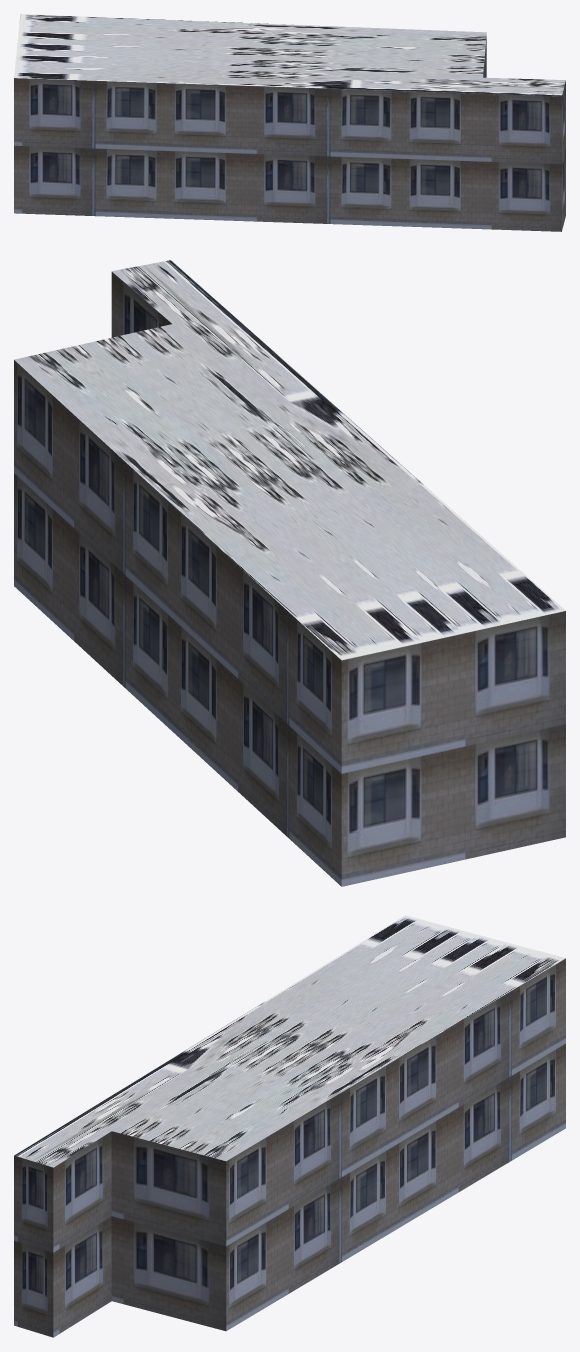
The model's file is ResTex__4845.fbx.
3 renders of one model, top to bottom at view 1: azimuth 30°, elevation 25°; view 2: azimuth 150°, elevation 25°; view 3: azimuth 270°, elevation 25°, orthographic. The views are drawn at different scales.
Visible parts, largest first — view 1: CityEngineMaterial_3_m, CityEngineMaterial_8_m; view 2: CityEngineMaterial_3_m, CityEngineMaterial_8_m; view 3: CityEngineMaterial_3_m, CityEngineMaterial_8_m.
Part boxes in pixels (x1,y1,x2,y2): CityEngineMaterial_3_m: (14, 36, 565, 231); CityEngineMaterial_8_m: (14, 14, 565, 96); CityEngineMaterial_3_m: (14, 272, 565, 886); CityEngineMaterial_8_m: (14, 260, 565, 660); CityEngineMaterial_3_m: (14, 958, 565, 1337); CityEngineMaterial_8_m: (14, 915, 565, 1167).
Bounding box in the file's own units: 19.1 × 6 × 17.65.
Materials: 2 (2 with a texture image).
